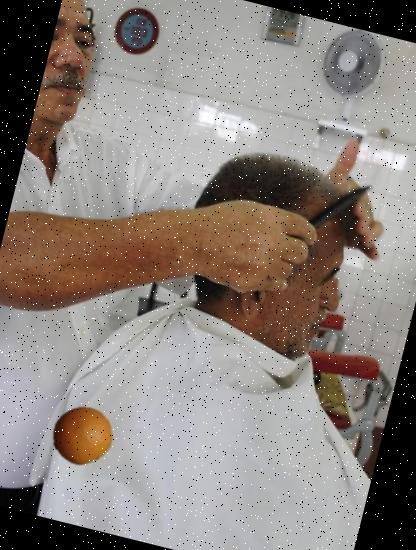Orange: (46, 399, 119, 472)
